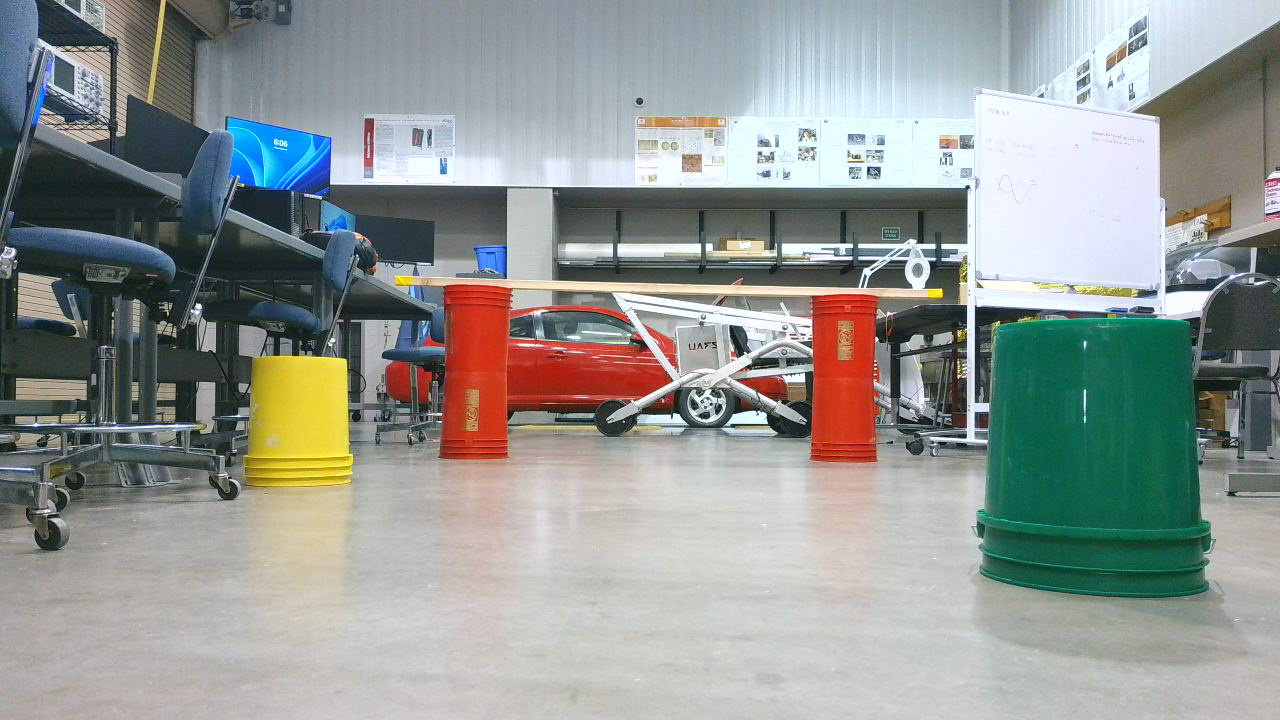green_bucket_barrier: (977, 317, 1224, 607)
red_bucket_arch: (438, 277, 891, 473)
yellow_bucket: (244, 351, 368, 496)
